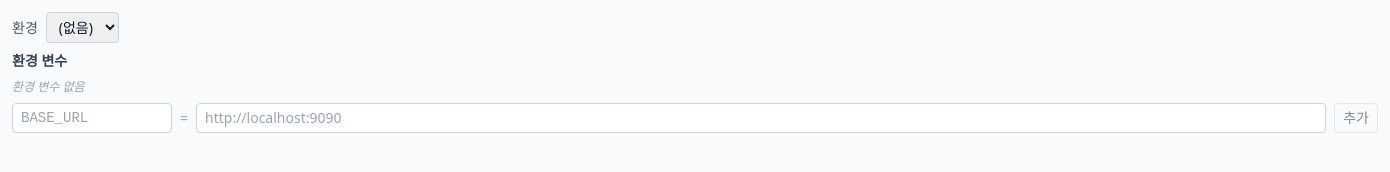
EnvironmentPicker › adds an arbitrary override via the add row
In the field with placeholder "BASE_URL": point(92, 118) [12, 103, 172, 133], type "EXTRA"
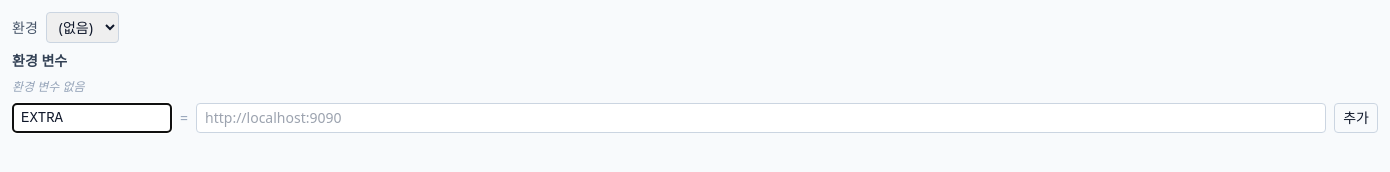
Click the button "추가": point(1356, 118) [1334, 103, 1378, 133]
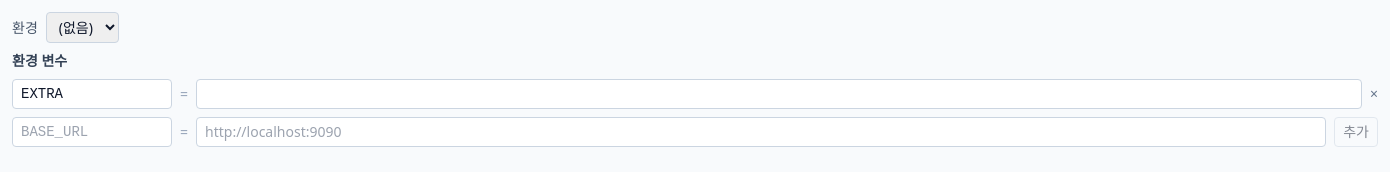
Check: the field named "환경 변수 키 0" holds "EXTRA", box [12, 79, 172, 109]
